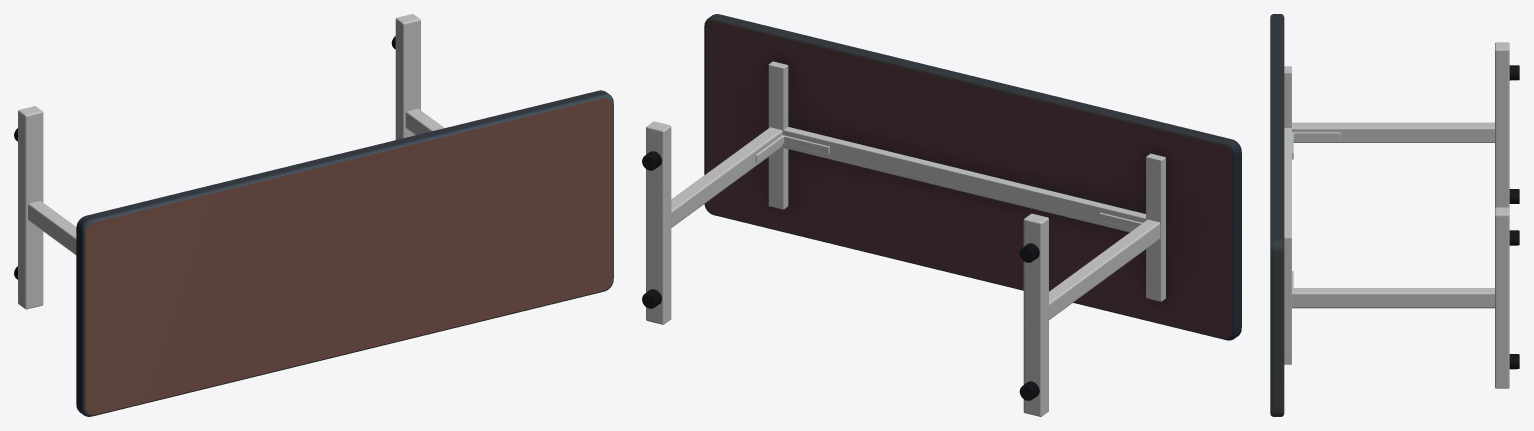
Rendered from mesa.obj.
The picture shows the model from 3 angles, left to right: view 1: azimuth 30°, elevation 25°; view 2: azimuth 150°, elevation 25°; view 3: azimuth 270°, elevation 25°; orthographic projection. The views are drawn at different scales.
Parts seen in each view (by area): view 1: Object.1; view 2: Object.1; view 3: Object.1.
Boxes of the visible parts, <box> form: Object.1: <box>14,14,613,416</box>; Object.1: <box>642,14,1241,416</box>; Object.1: <box>1270,14,1519,416</box>.
Bounding box in the file's own units: 113 × 39.93 × 51.12.
1 material, 1 textured.
